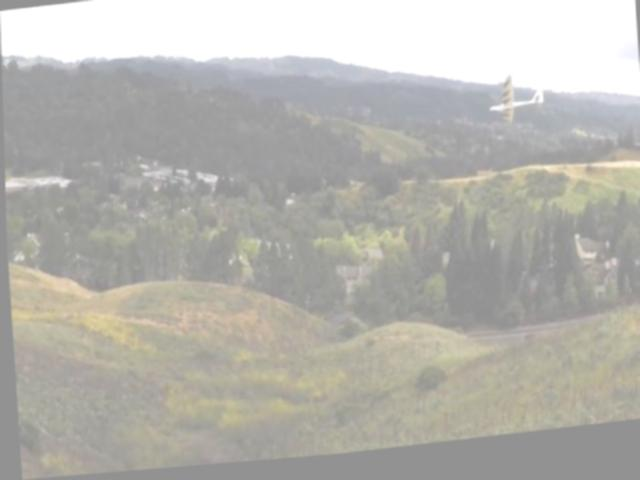iha: (486, 78, 544, 140)
